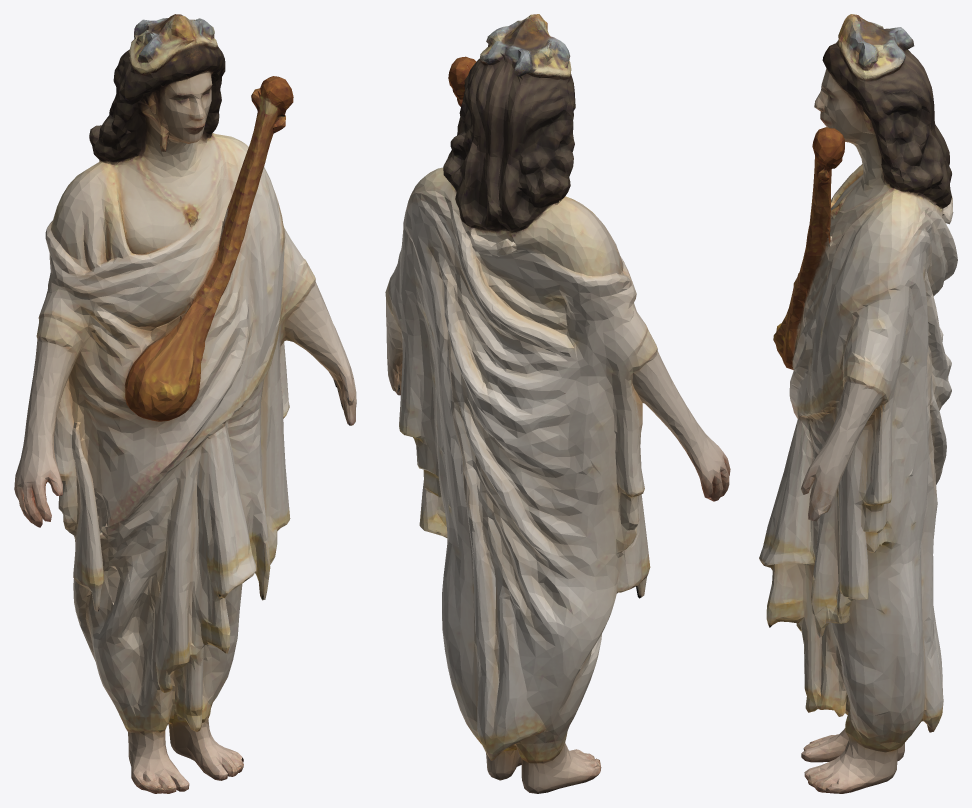
File: gandharva.glb
3 views of the same model, side by side, from view 1: azimuth 30°, elevation 25°; view 2: azimuth 150°, elevation 25°; view 3: azimuth 270°, elevation 25° (orthographic).
Parts seen in each view (by area): view 1: world; view 2: world; view 3: world.
Part boxes in pixels (bbox=[...]): world: bbox=[14, 14, 356, 793]; world: bbox=[385, 14, 730, 793]; world: bbox=[759, 14, 957, 793].
Bounding box in the file's own units: 0.4612 × 1 × 0.2388.
Materials: 1 (1 with a texture image).
